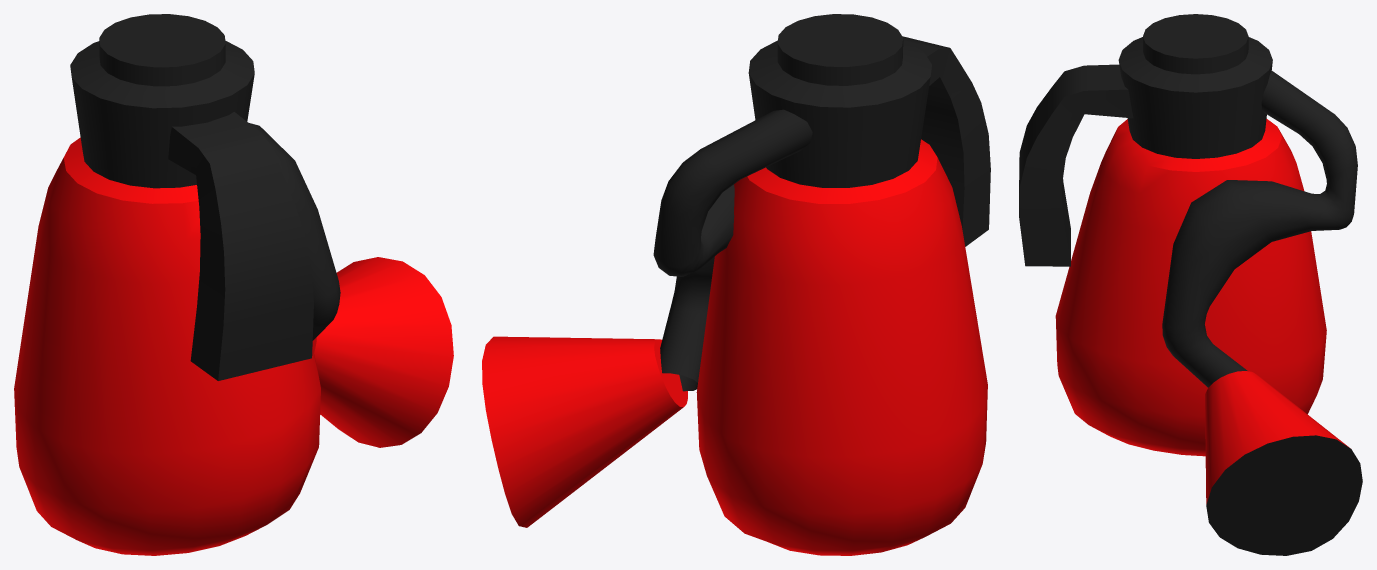
Rendered from Tool_01.fbx.
The picture shows the model from 3 angles, left to right: view 1: azimuth 30°, elevation 25°; view 2: azimuth 150°, elevation 25°; view 3: azimuth 270°, elevation 25°; orthographic projection. The views are drawn at different scales.
Visible parts, largest first — view 1: Fire_Extinguisher.001, Fire_Extinguisher; view 2: Fire_Extinguisher.001, Fire_Extinguisher; view 3: Fire_Extinguisher, Fire_Extinguisher.001.
Boxes of the visible parts, left/top/right/bottom form: Fire_Extinguisher.001: left=14, top=137, right=453, bottom=555; Fire_Extinguisher: left=70, top=14, right=340, bottom=380; Fire_Extinguisher.001: left=482, top=139, right=987, bottom=555; Fire_Extinguisher: left=653, top=14, right=990, bottom=391; Fire_Extinguisher: left=1019, top=14, right=1362, bottom=555; Fire_Extinguisher.001: left=1055, top=119, right=1349, bottom=504.
Bounding box in the file's own units: 80.78 × 88.87 × 66.22.
